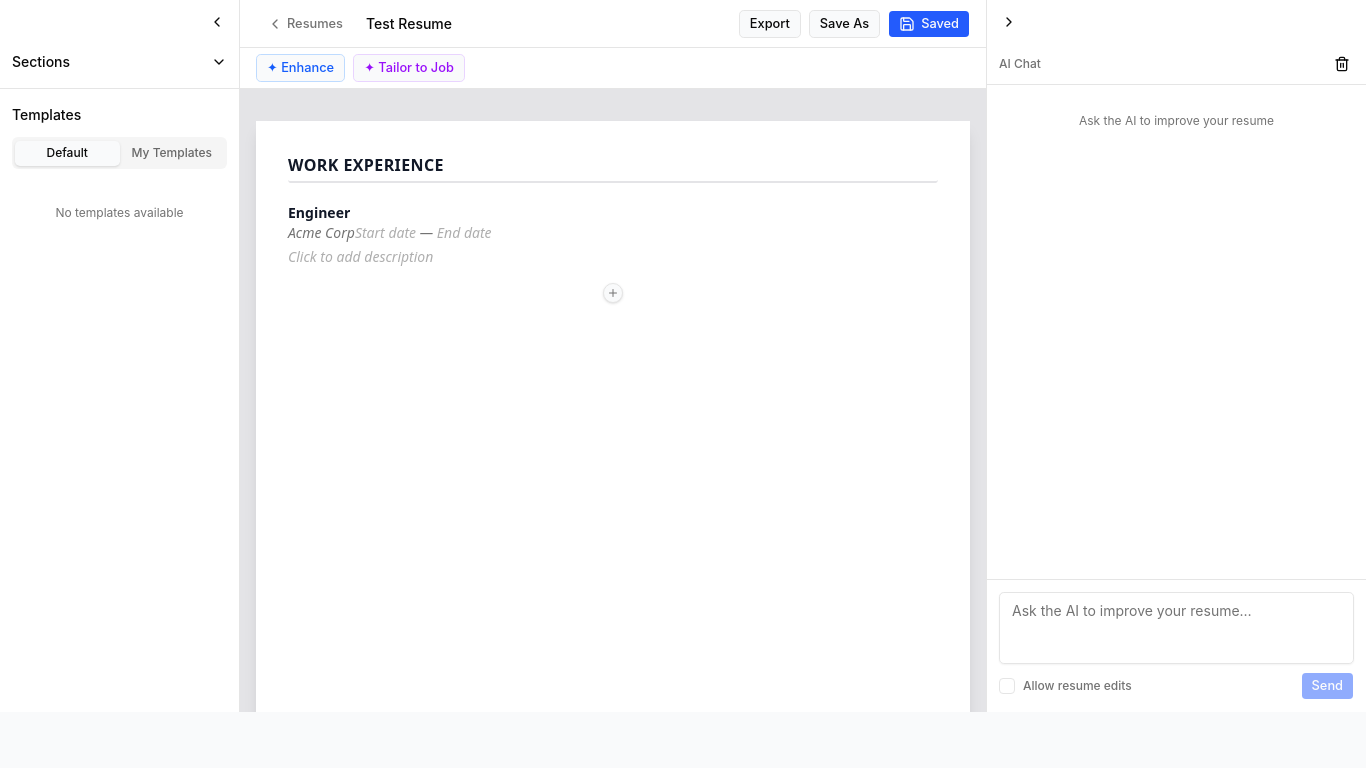
Test: EditorPage › shows validation error when Save As is submitted with blank name (AC3)
Click the button with aria-label "save as new resume": (844, 24) [809,10,880,38]
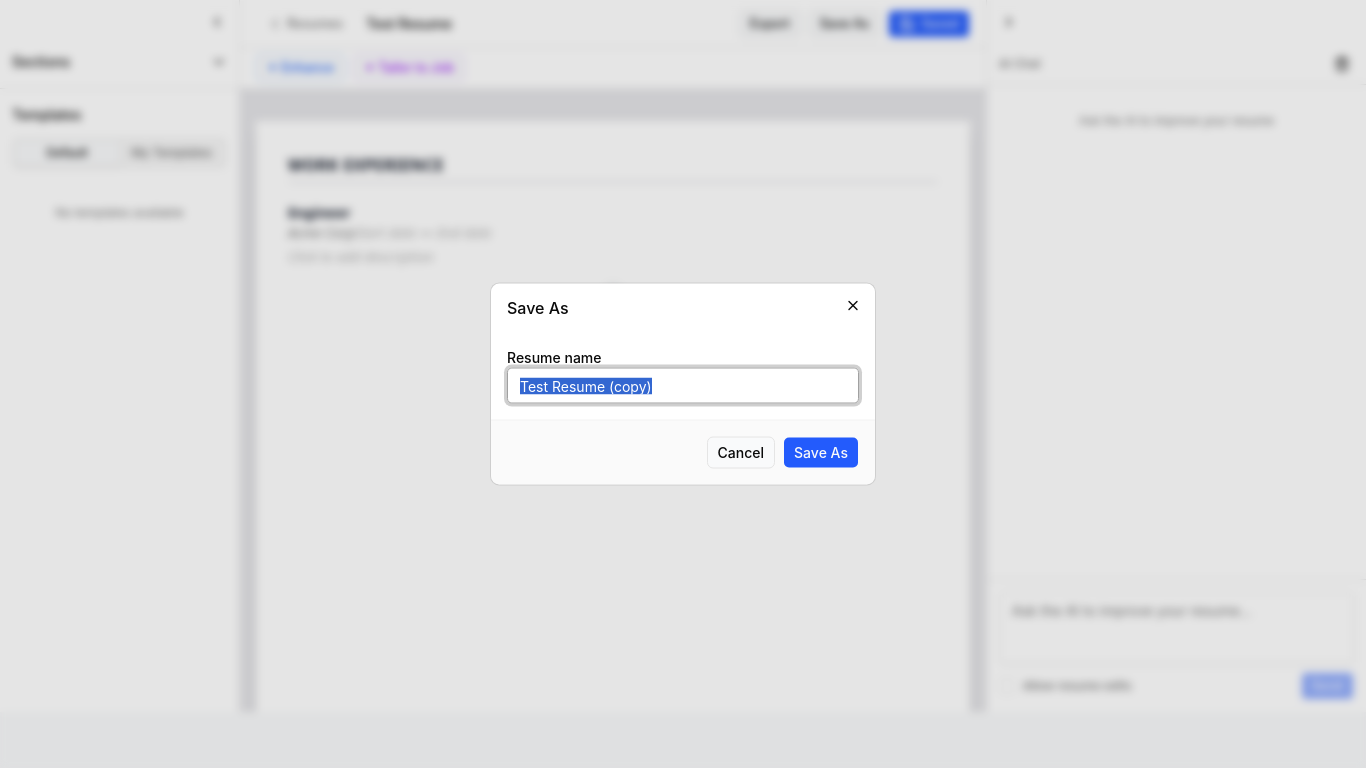
Clear the field with id "save-as-name": (683, 386) [507,368,859,404]
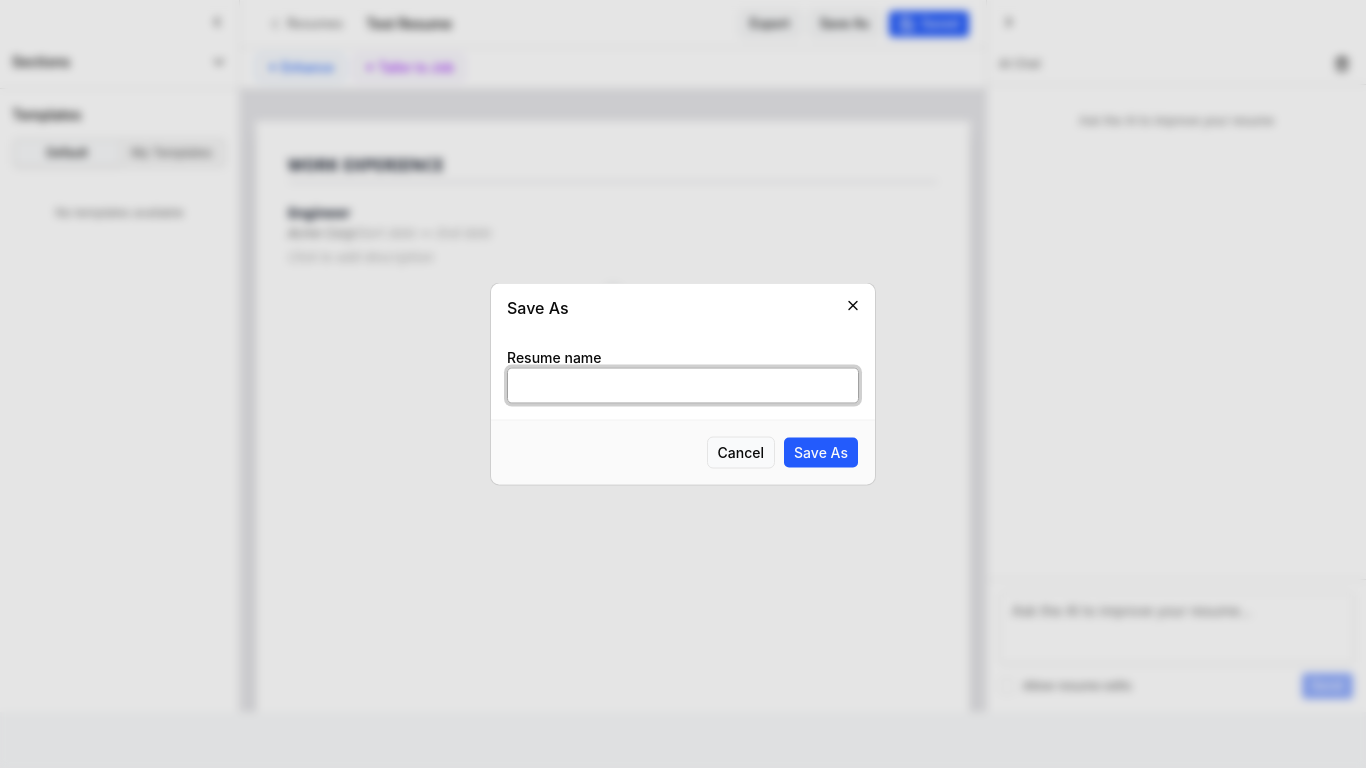
Click the button "Save As": (821, 452) [783,436,859,468]
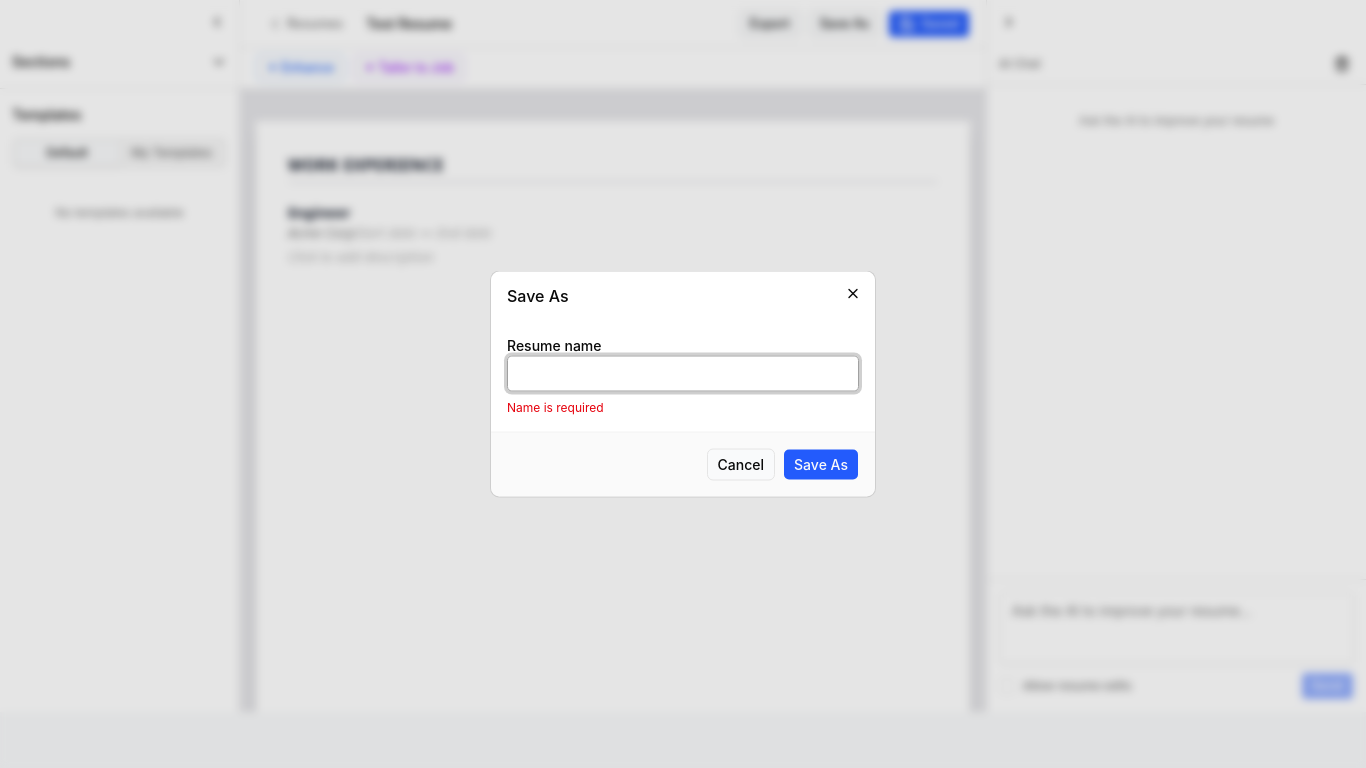
Now the text "Name is required" is shown, box [507,400,604,414]
